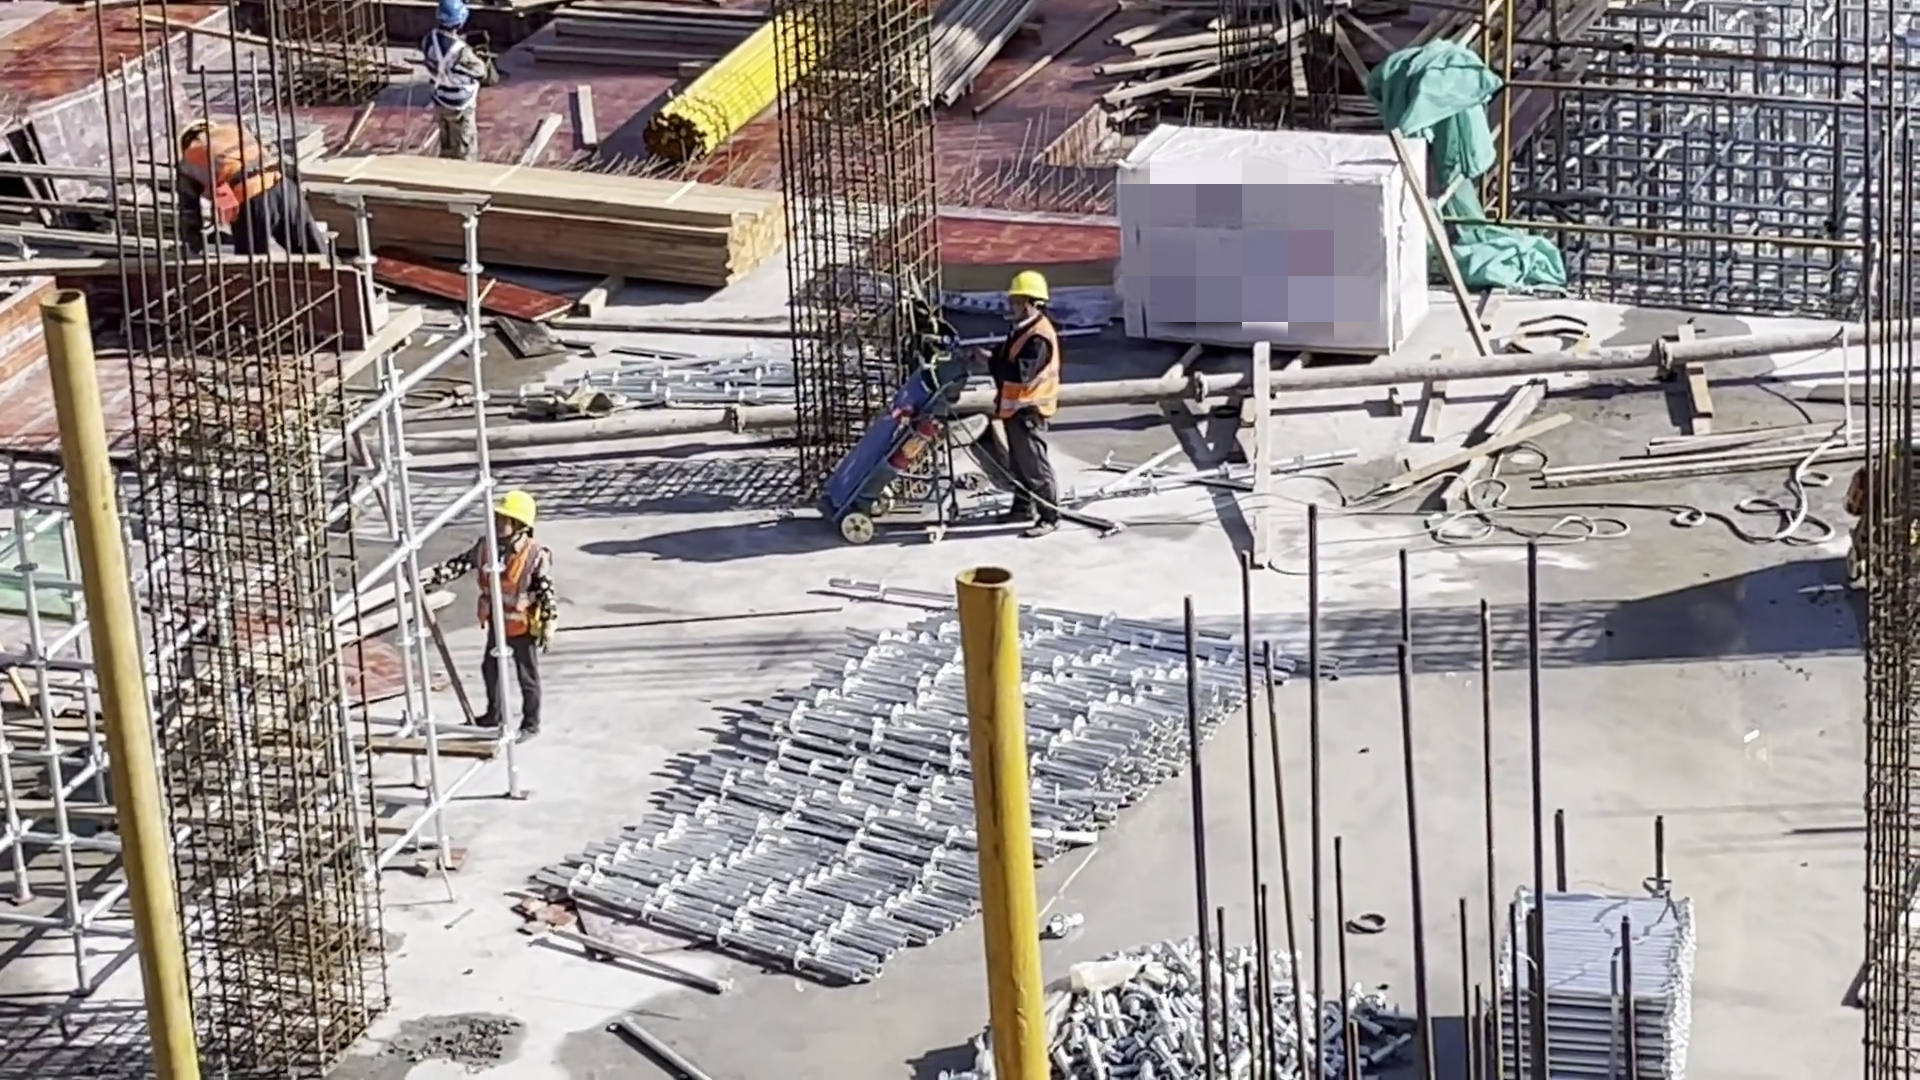helmet: (488, 490, 536, 524), (1010, 273, 1051, 306), (435, 1, 474, 23)
person: (419, 493, 566, 746), (175, 111, 333, 254), (995, 274, 1066, 543), (423, 1, 492, 157)
scaffold: (532, 568, 1335, 992), (1495, 882, 1692, 1080)
vest: (473, 534, 546, 643), (181, 127, 281, 201), (999, 312, 1059, 423), (422, 25, 488, 113)
wood: (296, 151, 788, 288)
